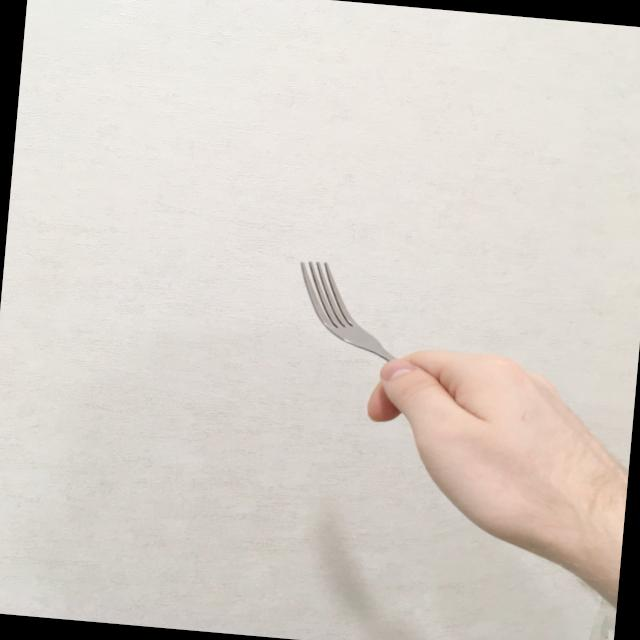fork: (286, 258, 502, 440)
